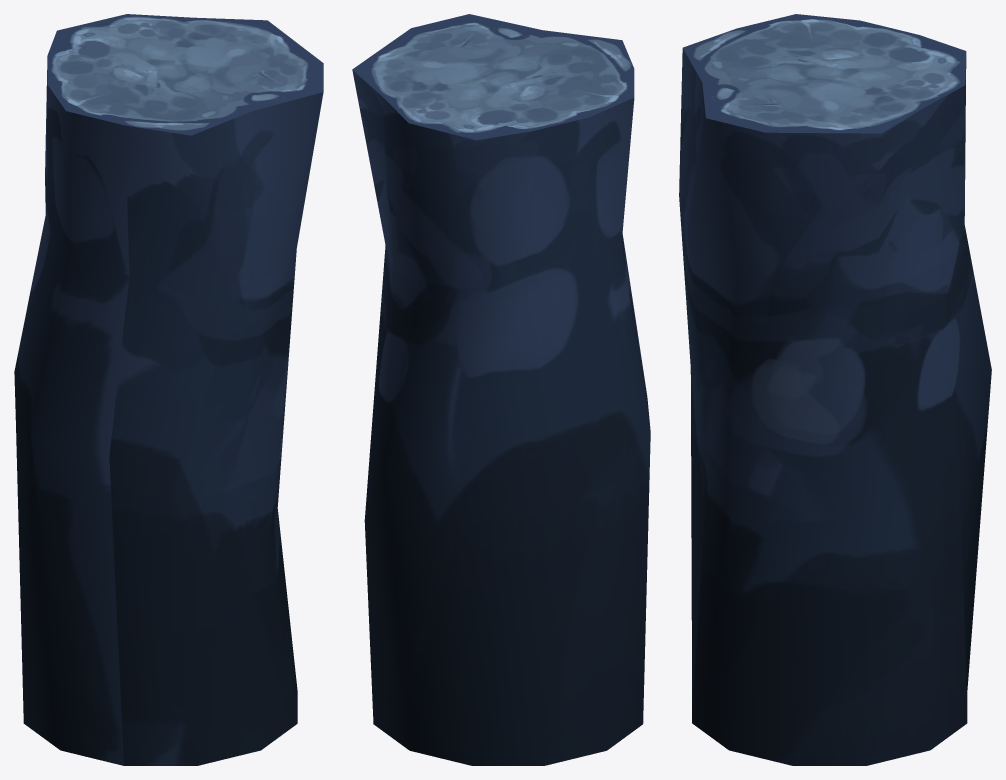
The model's file is SM_tterrain_poteau_1.FBX.
3 views of the same model, side by side, from view 1: azimuth 30°, elevation 25°; view 2: azimuth 150°, elevation 25°; view 3: azimuth 270°, elevation 25° (orthographic). The views are drawn at different scales.
Visible parts, largest first — view 1: Cylinder001; view 2: Cylinder001; view 3: Cylinder001.
Part boxes in pixels (x1,y1,x2,y2): Cylinder001: (14, 14, 323, 765); Cylinder001: (352, 14, 650, 765); Cylinder001: (679, 14, 991, 765).
Size of the model in its own units: 12.32 by 28.03 by 12.43.
